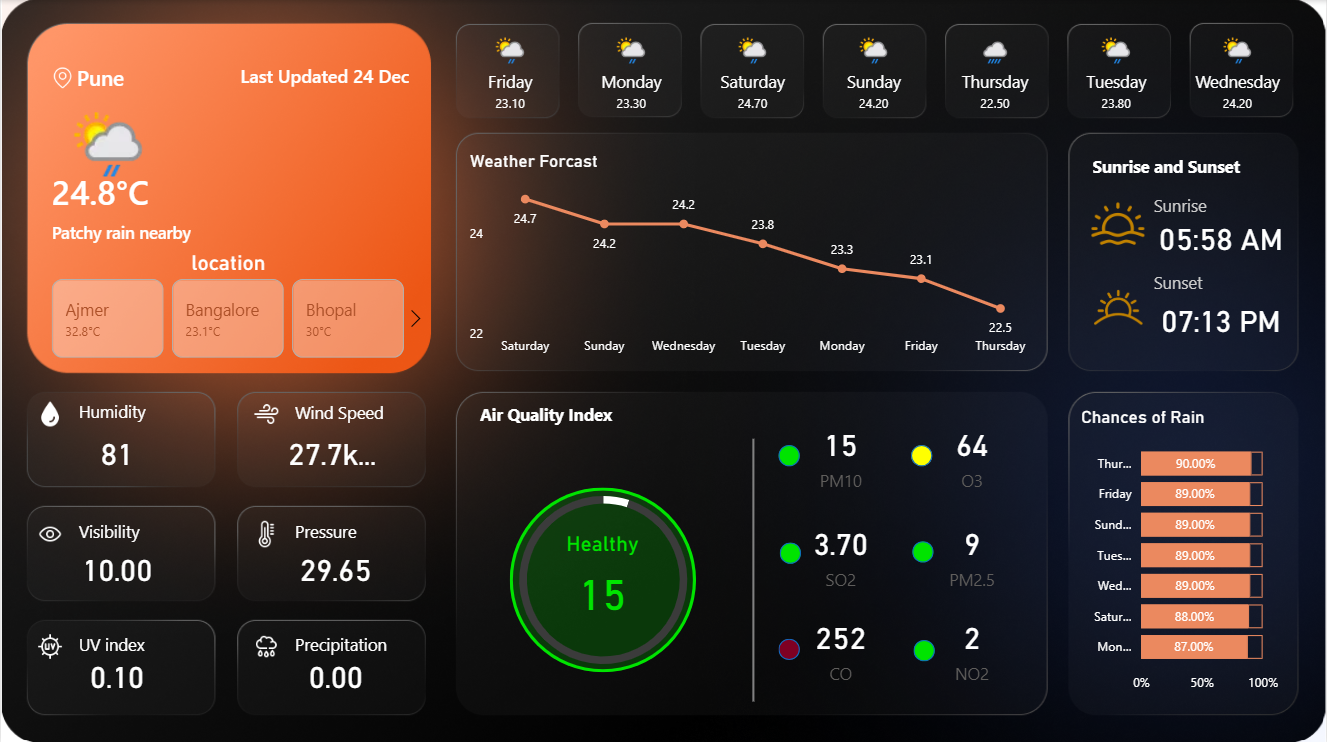

The page's visual inventory and layout, read from the dashboard file:
{"tool":"powerbi","page":{"name":"orange","canvas":[1280,720],"ordinal":0},"visuals":[{"type":"shape","box":[491.3,470.7,179.8,178.4],"z":0},{"type":"donutChart","fields":{"Y":["Sum(Current.current.air_quality.pm10)","Measure.alert"]},"box":[472,454.2,219.6,212.7],"z":1000},{"type":"advancedSlicerVisual","title":"location","fields":{"Values":["location.location.name"],"Label":["Measure.curr_temp_c"]},"box":[24.7,241.5,391.1,109.8],"z":2000},{"type":"cardVisual","fields":{"Data":["Min(Current.current.condition.icon)"]},"box":[0,13.3,208.3,168.3],"z":3000},{"type":"cardVisual","fields":{"Data":["Measure.curr_temp_c"]},"box":[0,144.5,205.3,77.5],"z":4000},{"type":"cardVisual","fields":{"Data":["Min(Current.current.condition.text)"]},"box":[0,182.2,369.2,74.8],"z":5000},{"type":"cardVisual","fields":{"Data":["Min(Current.location.name)"]},"box":[24.3,30.4,214.4,74.5],"z":6000},{"type":"cardVisual","fields":{"Data":["Measure.date"]},"box":[181.7,30,265,75],"z":7000},{"type":"image","box":[50,57.9,20,35],"z":8000},{"type":"image","box":[35,381.7,25,36.7],"z":9000},{"type":"textbox","box":[70,381.7,85,39.2],"z":10000},{"type":"image","box":[35,497.5,25,36.7],"z":11000},{"type":"textbox","box":[70,497.5,85,39.2],"z":12000},{"type":"image","box":[35,605.8,25,36.7],"z":13000},{"type":"textbox","box":[70,605.8,85,39.2],"z":14000},{"type":"image","box":[244.2,381.7,25,36.7],"z":15000},{"type":"image","box":[244.2,497.5,25,36.7],"z":16000},{"type":"image","box":[244.2,605.8,25,36.7],"z":17000},{"type":"textbox","box":[278.3,382.5,117.5,39.2],"z":18000},{"type":"textbox","box":[278.3,497.5,85,39.2],"z":19000},{"type":"textbox","box":[278.3,605.8,117.5,39.2],"z":20000},{"type":"card","fields":{"Values":["Sum(Current.current.humidity)"]},"box":[77.5,411.7,70,51.7],"z":21000},{"type":"card","fields":{"Values":["Measure.wind"]},"box":[270.8,411.7,99.2,51.7],"z":22000},{"type":"card","fields":{"Values":["Sum(Current.current.pressure_in)"]},"box":[274.2,523.3,99.2,51.7],"z":23000},{"type":"card","fields":{"Values":["Sum(Current.current.vis_km)"]},"box":[62.5,523.3,99.2,51.7],"z":24000},{"type":"card","fields":{"Values":["Sum(Current.current.uv)"]},"box":[62.5,625.8,99.2,51.7],"z":25000},{"type":"card","fields":{"Values":["Sum(Current.current.precip_in)"]},"box":[274.2,625.8,99.2,51.7],"z":26000},{"type":"advancedSlicerVisual","fields":{"Values":["Forcast_Day.Day_Formated"]},"box":[431.4,25.7,827.1,100],"z":27000},{"type":"lineChart","title":"Weather Forcast","fields":{"Category":["Forcast_Day.Day_Formated"],"Y":["Measure.avgtem"]},"box":[447.1,144.3,552.9,207.1],"z":28000},{"type":"textbox","box":[1048.6,144.3,210,37.1],"z":29000},{"type":"textbox","box":[1107.4,182.5,118,39.8],"z":30000},{"type":"card","fields":{"Values":["Min(Forcast_Day.sunrise_date)"]},"box":[1107.4,204.5,140,52.1],"z":31000},{"type":"card","fields":{"Values":["Min(Forcast_Day.sunset_date)"]},"box":[1107.4,282.7,140,52.1],"z":32000},{"type":"textbox","box":[1107.4,256.6,118,39.8],"z":33000},{"type":"hundredPercentStackedBarChart","title":"Chances of Rain","fields":{"Category":["Forcast_Day.Day_Formated"],"Y":["Sum(Forcast_Day.forecast.forecastday.day.daily_chance_of_rain)","Measure.left_value_rain"]},"box":[1037.4,392.5,200.3,285.4],"z":34000},{"type":"card","fields":{"Values":["Sum(Current.current.air_quality.o3)"]},"box":[887.8,402.1,98.8,75.5],"z":35000},{"type":"card","fields":{"Values":["Sum(Current.current.air_quality.pm2_5)"]},"box":[887.8,496.7,98.8,75.5],"z":36000},{"type":"card","fields":{"Values":["Sum(Current.current.air_quality.no2)"]},"box":[887.8,587.3,98.8,75.5],"z":37000},{"type":"card","fields":{"Values":["Sum(Current.current.air_quality.pm10)"]},"box":[761.6,402.1,98.8,75.5],"z":38000},{"type":"card","fields":{"Values":["Sum(Current.current.air_quality.so2)"]},"box":[761.6,496.7,98.8,75.5],"z":39000},{"type":"card","fields":{"Values":["Sum(Current.current.air_quality.co)"]},"box":[761.6,587.3,98.8,75.5],"z":40000},{"type":"textbox","box":[456.9,384.2,209.9,38.4],"z":41000},{"type":"shape","box":[750.6,429.5,20.6,20.6],"z":42000},{"type":"shape","box":[752,524.2,20.6,20.6],"z":43000},{"type":"shape","box":[750.6,616.1,20.6,20.6],"z":44000},{"type":"shape","box":[878.2,429.5,20.6,20.6],"z":45000},{"type":"shape","box":[879.6,522.8,20.6,20.6],"z":46000},{"type":"shape","box":[881,617.5,20.6,20.6],"z":47000},{"type":"shape","box":[666.9,424,118,253.9],"z":48000},{"type":"card","fields":{"Values":["Sum(Current.current.air_quality.pm10)"]},"box":[522.8,513.2,116.6,91.9],"z":49000},{"type":"image","box":[1048.4,190.6,59.1,50.7],"z":50000},{"type":"image","box":[1044.8,265.4,67.6,62.7],"z":51000}]}

Visuals, with their boxes in screenshot pixels (x1, y1, x2, y2), scaled from the page's 1280x720 canvas onto the 1327x742 screenshot:
shape: <box>509,485,696,669</box>
donutChart - Sum(Current.current.air_quality.pm10) x Measure.alert: <box>489,468,717,687</box>
"location" advancedSlicerVisual: <box>26,249,431,362</box>
cardVisual - Min(Current.current.condition.icon): <box>0,14,216,187</box>
cardVisual - Measure.curr_temp_c: <box>0,149,213,229</box>
cardVisual - Min(Current.current.condition.text): <box>0,188,383,265</box>
cardVisual - Min(Current.location.name): <box>25,31,247,108</box>
cardVisual - Measure.date: <box>188,31,463,108</box>
image: <box>52,60,73,96</box>
image: <box>36,393,62,431</box>
textbox: <box>73,393,161,434</box>
image: <box>36,513,62,551</box>
textbox: <box>73,513,161,553</box>
image: <box>36,624,62,662</box>
textbox: <box>73,624,161,665</box>
image: <box>253,393,279,431</box>
image: <box>253,513,279,551</box>
image: <box>253,624,279,662</box>
textbox: <box>289,394,410,435</box>
textbox: <box>289,513,377,553</box>
textbox: <box>289,624,410,665</box>
card - Sum(Current.current.humidity): <box>80,424,153,478</box>
card - Measure.wind: <box>281,424,384,478</box>
card - Sum(Current.current.pressure_in): <box>284,539,387,593</box>
card - Sum(Current.current.vis_km): <box>65,539,168,593</box>
card - Sum(Current.current.uv): <box>65,645,168,698</box>
card - Sum(Current.current.precip_in): <box>284,645,387,698</box>
advancedSlicerVisual - Forcast_Day.Day_Formated: <box>447,26,1305,130</box>
"Weather Forcast" lineChart: <box>464,149,1037,362</box>
textbox: <box>1087,149,1305,187</box>
textbox: <box>1148,188,1270,229</box>
card - Min(Forcast_Day.sunrise_date): <box>1148,211,1293,264</box>
card - Min(Forcast_Day.sunset_date): <box>1148,291,1293,345</box>
textbox: <box>1148,264,1270,305</box>
"Chances of Rain" hundredPercentStackedBarChart: <box>1075,404,1283,699</box>
card - Sum(Current.current.air_quality.o3): <box>920,414,1023,492</box>
card - Sum(Current.current.air_quality.pm2_5): <box>920,512,1023,590</box>
card - Sum(Current.current.air_quality.no2): <box>920,605,1023,683</box>
card - Sum(Current.current.air_quality.pm10): <box>790,414,892,492</box>
card - Sum(Current.current.air_quality.so2): <box>790,512,892,590</box>
card - Sum(Current.current.air_quality.co): <box>790,605,892,683</box>
textbox: <box>474,396,691,436</box>
shape: <box>778,443,800,464</box>
shape: <box>780,540,801,561</box>
shape: <box>778,635,800,656</box>
shape: <box>910,443,932,464</box>
shape: <box>912,539,933,560</box>
shape: <box>913,636,935,658</box>
shape: <box>691,437,814,699</box>
card - Sum(Current.current.air_quality.pm10): <box>542,529,663,624</box>
image: <box>1087,196,1148,249</box>
image: <box>1083,274,1153,338</box>
